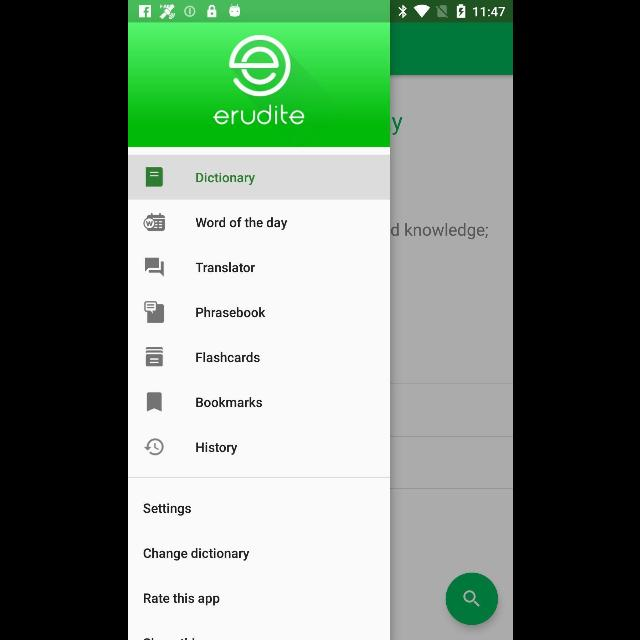button: (444, 573, 498, 625)
icon: (143, 301, 163, 323), (143, 438, 163, 456), (145, 347, 163, 367), (144, 258, 164, 276), (146, 392, 162, 412), (146, 167, 162, 187)
image: (228, 35, 290, 97), (212, 104, 304, 126), (143, 212, 165, 232)
panel: (128, 24, 388, 640)
text: (143, 547, 250, 561), (404, 223, 488, 240), (194, 218, 286, 230), (143, 592, 219, 606), (195, 306, 265, 318), (195, 172, 255, 185), (195, 397, 262, 408), (143, 502, 191, 516), (195, 352, 259, 362), (195, 262, 255, 272), (195, 441, 237, 455)
uppertaskbar: (128, 1, 512, 23)
